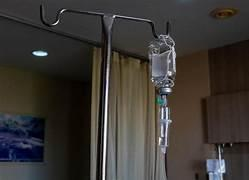Iv_Bottle: (149, 35, 175, 87)
